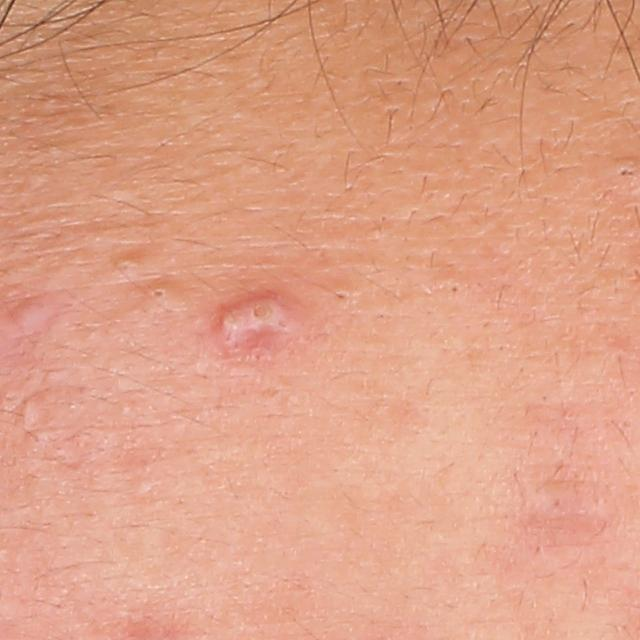comedo: (144, 282, 182, 312), (16, 395, 42, 427), (609, 160, 639, 183), (330, 286, 352, 306), (447, 282, 462, 296)
